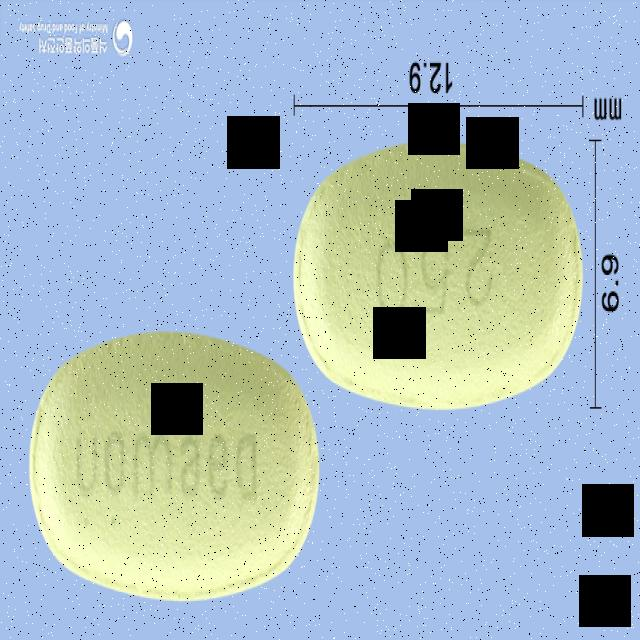Clasin: (26, 325, 322, 602), (292, 140, 584, 416)
